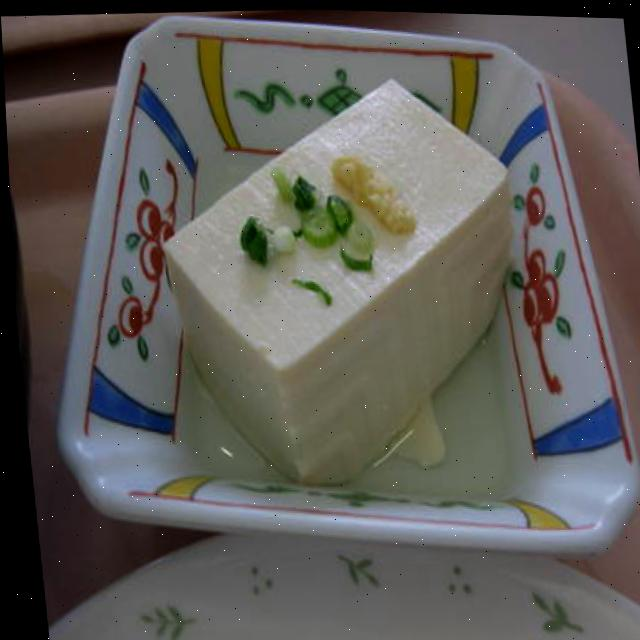豆腐料理: (0, 0, 640, 589)
